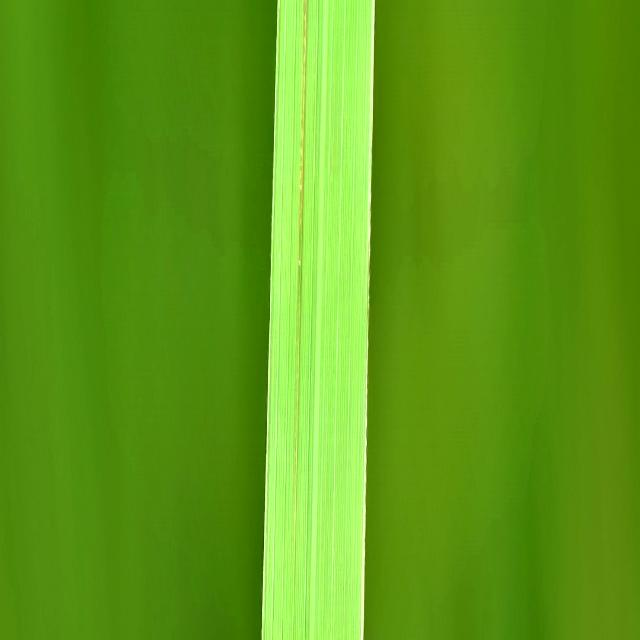BLS: (291, 0, 308, 570)
